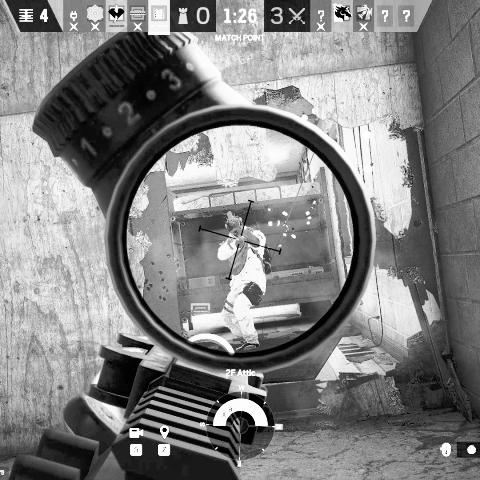Character: (217, 210, 267, 352)
Head: (225, 211, 243, 238)
